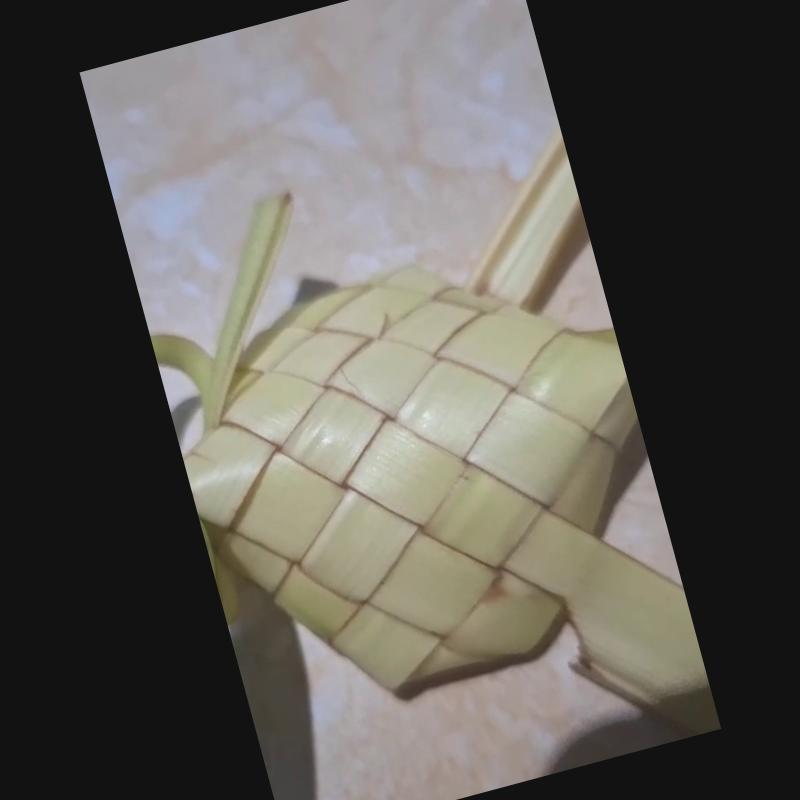Tipat Dampulan: (150, 134, 721, 734)
